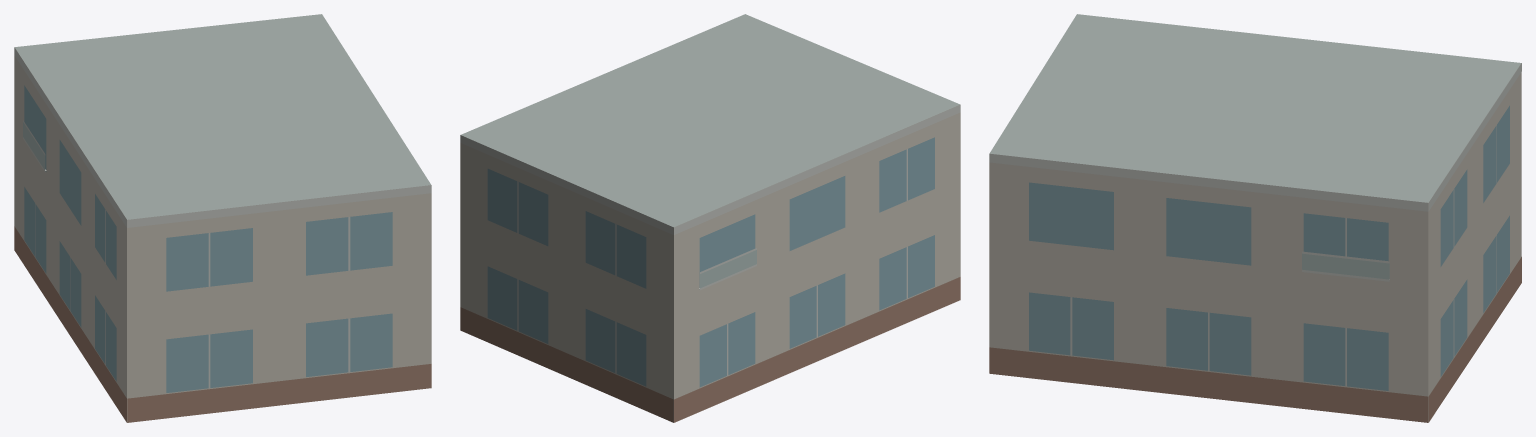
Rendered from survey-upis-33035914.glb.
The picture shows the model from 3 angles, left to right: view 1: azimuth 30°, elevation 25°; view 2: azimuth 150°, elevation 25°; view 3: azimuth 270°, elevation 25°; orthographic projection. The views are drawn at different scales.
Parts seen in each view (by area): view 1: survey-upis-33035914.tmp; view 2: survey-upis-33035914.tmp; view 3: survey-upis-33035914.tmp.
Boxes of the visible parts, x1,y1,x2,y2 form: survey-upis-33035914.tmp: (14,14,431,422); survey-upis-33035914.tmp: (460,14,960,422); survey-upis-33035914.tmp: (989,14,1521,422).
Bounding box in the file's own units: 11.24 × 6.1 × 13.39.
